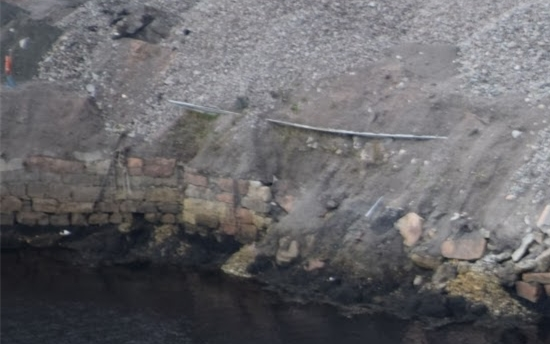tube: (333, 123, 448, 141), (166, 93, 246, 117), (264, 112, 334, 132)
